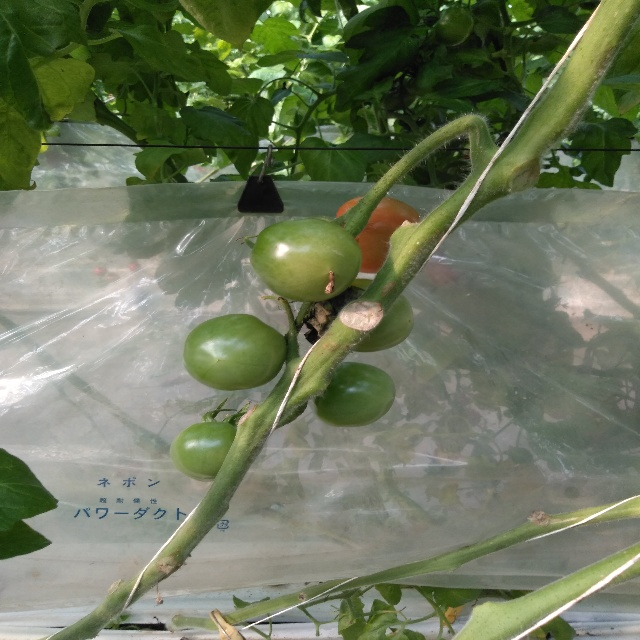l_green: (249, 215, 362, 303), (182, 314, 287, 390), (318, 278, 415, 352), (313, 363, 395, 428), (170, 422, 238, 482)
l_half_ripened: (336, 196, 421, 274)
